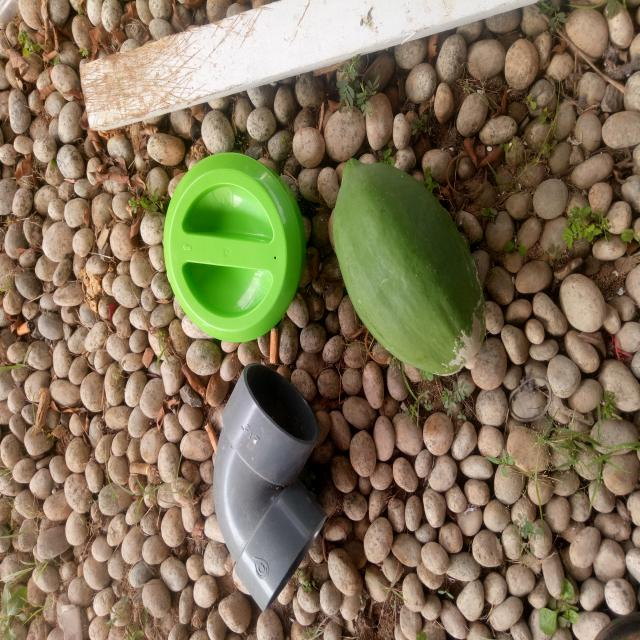Pepaya unrippen: (323, 161, 494, 378)
